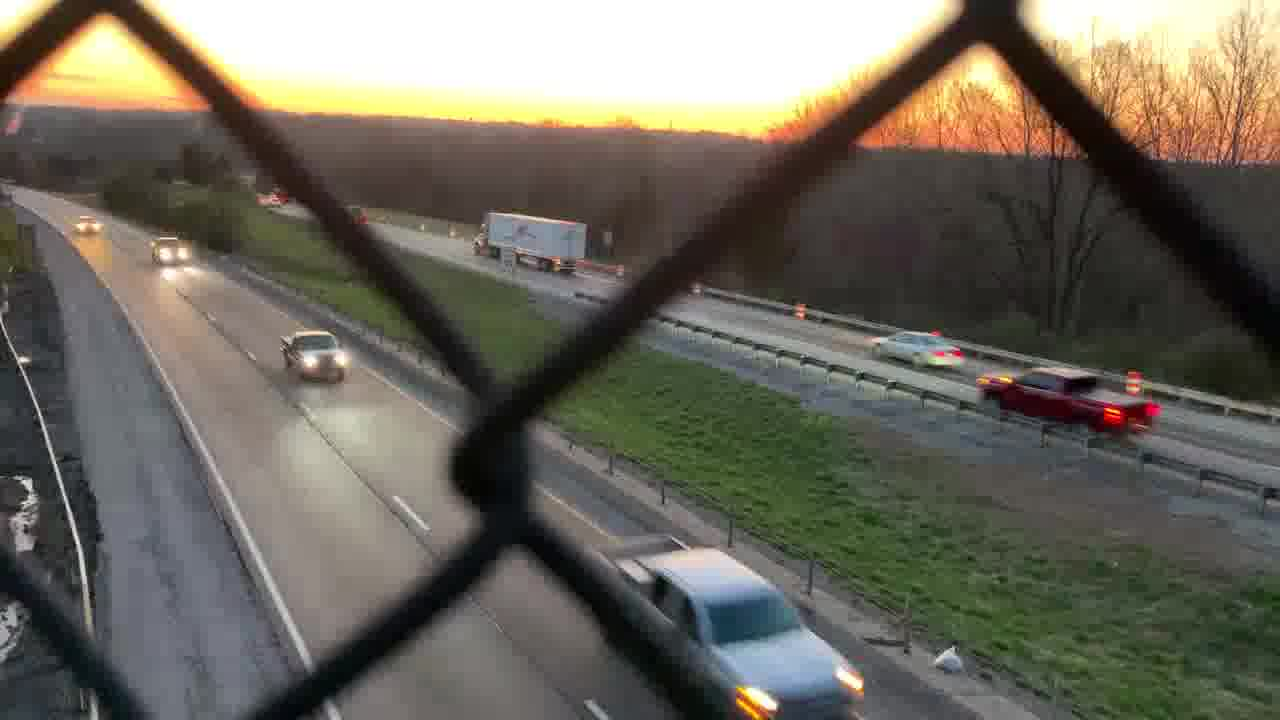heavyTruck: (474, 211, 592, 273)
lightTruck: (582, 533, 868, 720), (982, 365, 1164, 442), (279, 326, 349, 387)
smallCar: (870, 329, 958, 370)
vehicle: (147, 233, 194, 265), (74, 216, 104, 234)
